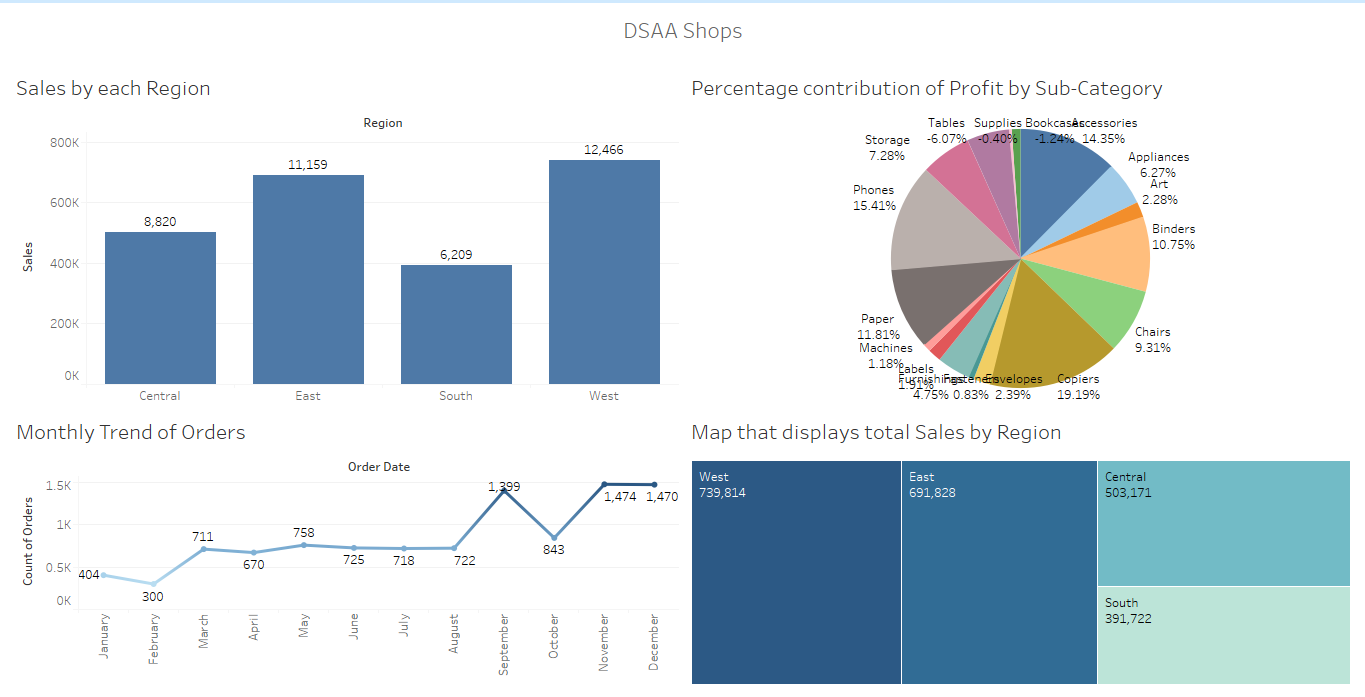

Layout of this report page (visuals, bound fields, positions):
{"tool":"tableau","page":{"name":"Dashboard 1","canvas":[1000,1000],"units":"permille","ordinal":0},"visuals":[{"type":"text","box":[7,14.7,986,68]},{"type":"worksheet","title":"Sales by each Region","mark":"Automatic","rows":["Sales"],"cols":["Region"],"box":[7,91.9,493,489.9]},{"type":"worksheet","title":"Percentage contribution of Profit by Sub-Category","mark":"Pie","box":[500,91.9,493,489.9]},{"type":"worksheet","title":"Monthly Trend of Orders","mark":"Automatic","rows":["Orders_4B93E1A6F44244A2A499B0531D3E4F1A"],"cols":["Order Date"],"box":[7,581.8,493,403.5]},{"type":"worksheet","title":"Map that displays total Sales by Region","mark":"Automatic","box":[500,581.8,493,403.5]}]}

Visuals, with their boxes on the dashboard's canvas, which has no fixed pixel size, in thousandths of its width and height (x1, y1, x2, y2). These are canvas units, not pixel positions in the 1365x697 screenshot, which may show the page scaled, cropped or inside an application window:
text: locate(7, 15, 993, 83)
"Sales by each Region" worksheet: locate(7, 92, 500, 582)
"Percentage contribution of Profit by Sub-Category" worksheet (Pie marks): locate(500, 92, 993, 582)
"Monthly Trend of Orders" worksheet: locate(7, 582, 500, 985)
"Map that displays total Sales by Region" worksheet: locate(500, 582, 993, 985)
